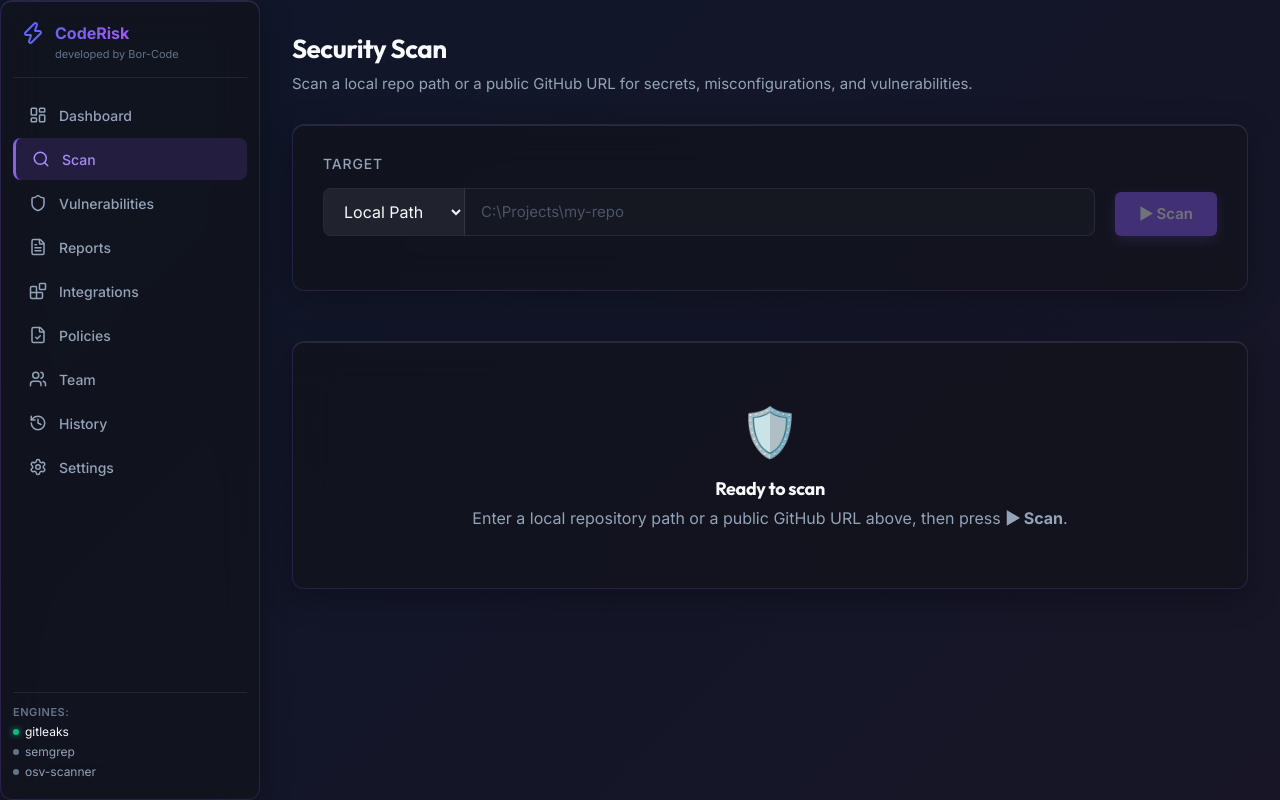
App › filters findings by severity and toggles ignore state
Type "/tmp/repo" into the field labelled "Target" at (780, 212), box [465,188,1094,234]
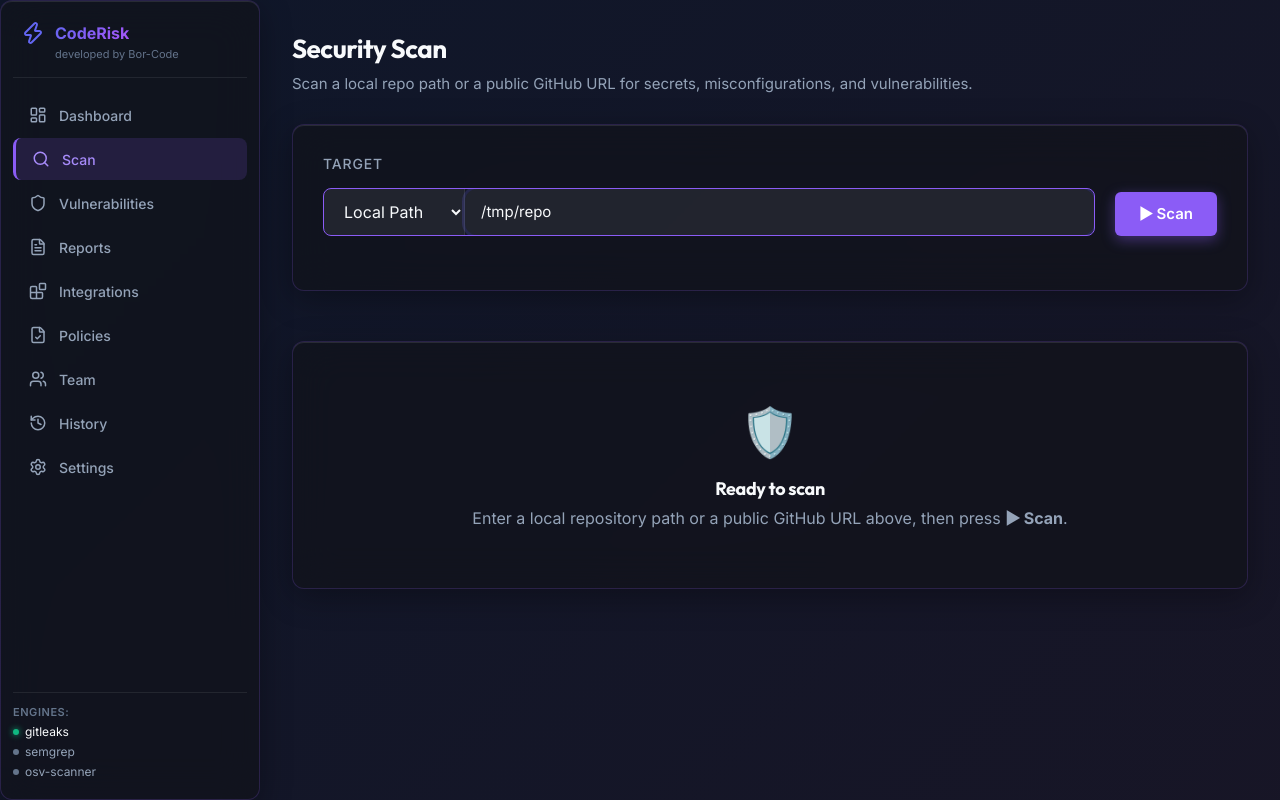
Click the button "▶ Scan" at (1166, 214), box [1115,192,1217,236]
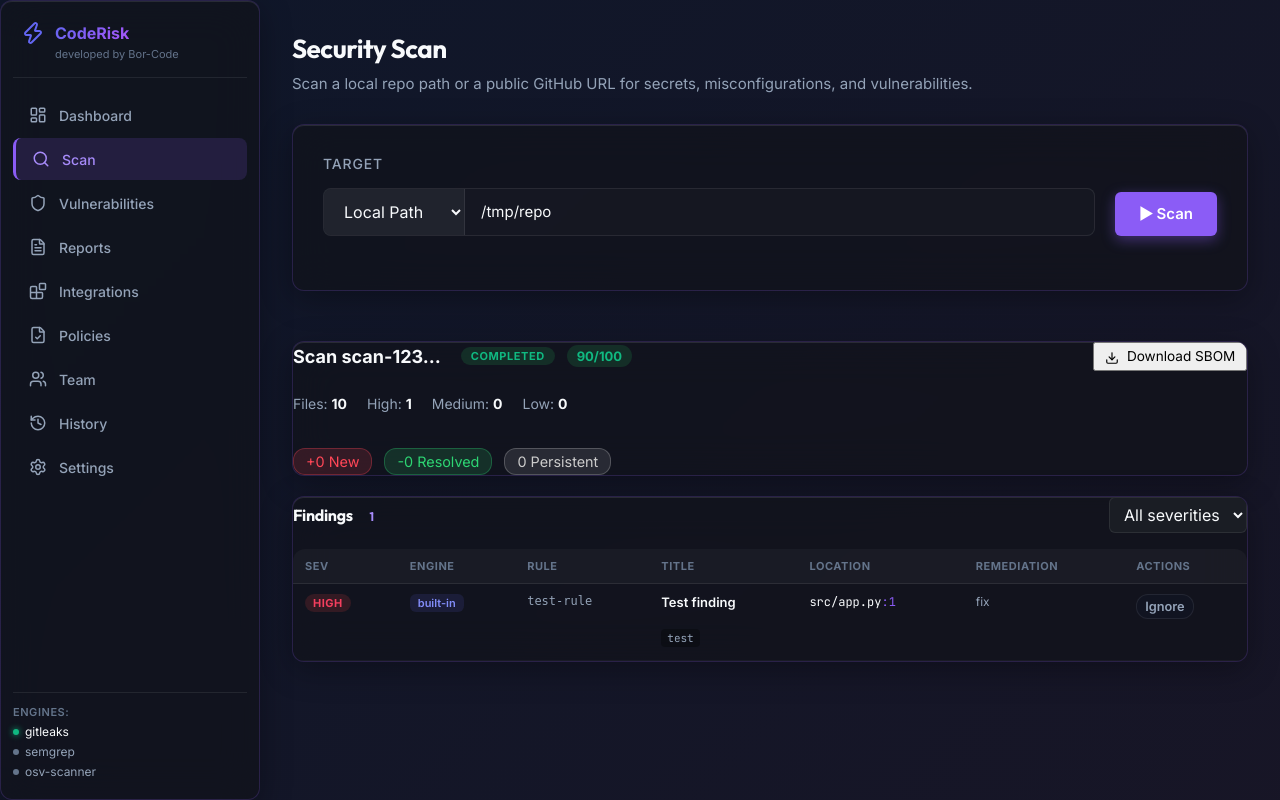
Expected: the text "Test finding" is shown, [661,594,736,610]
Click the button "Ignore" at (1165, 607), box [1136,594,1194,619]
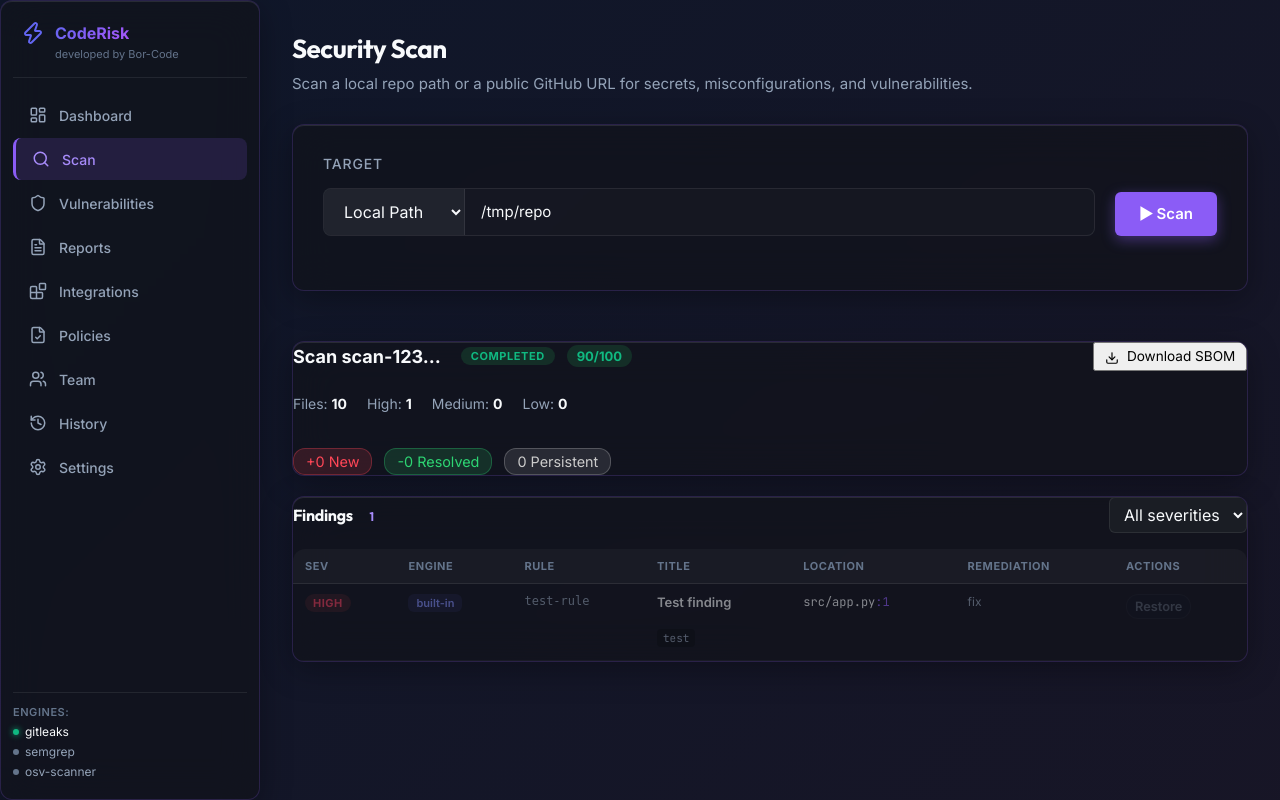
Expected: the button "Restore" is shown, [1126,594,1191,619]
Select "Low" in the dropdown named "Filter by severity" at (1178, 515), box [1109,497,1247,533]
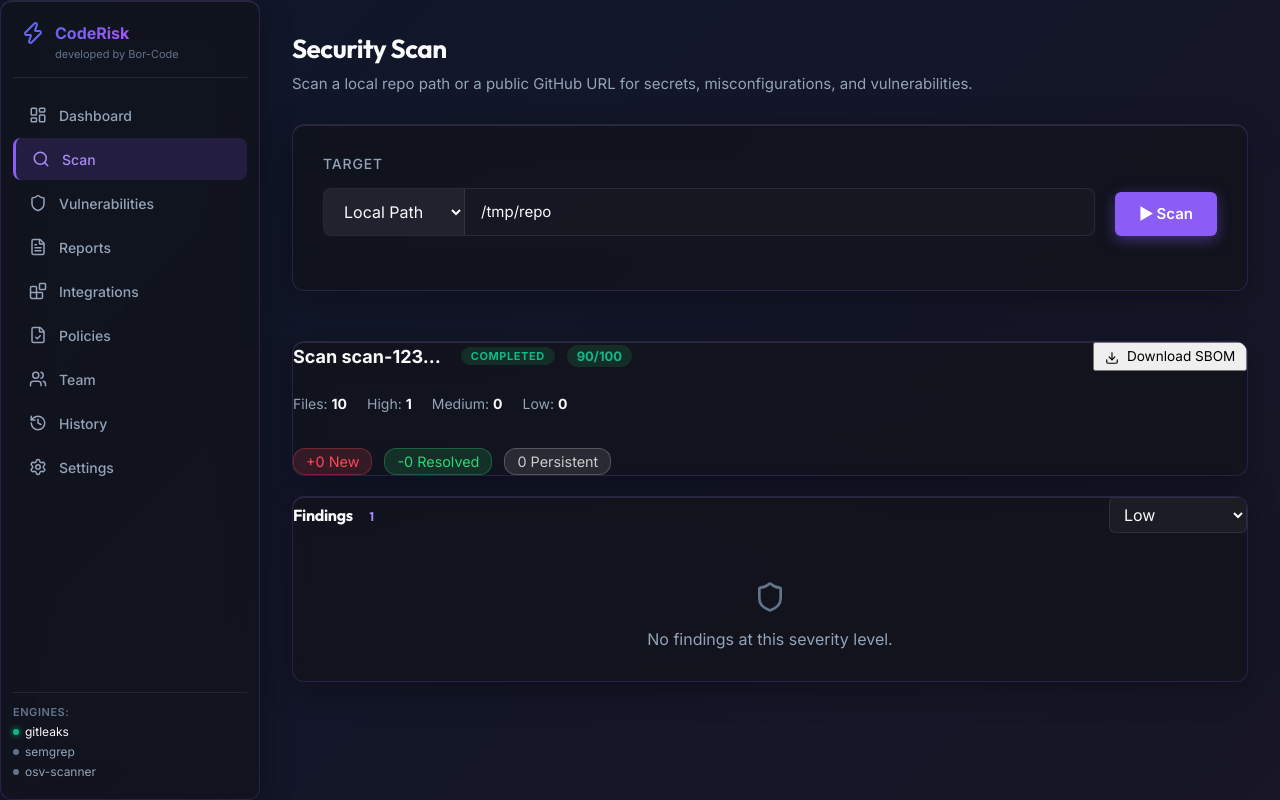
Expected: the text "Test finding" is gone
